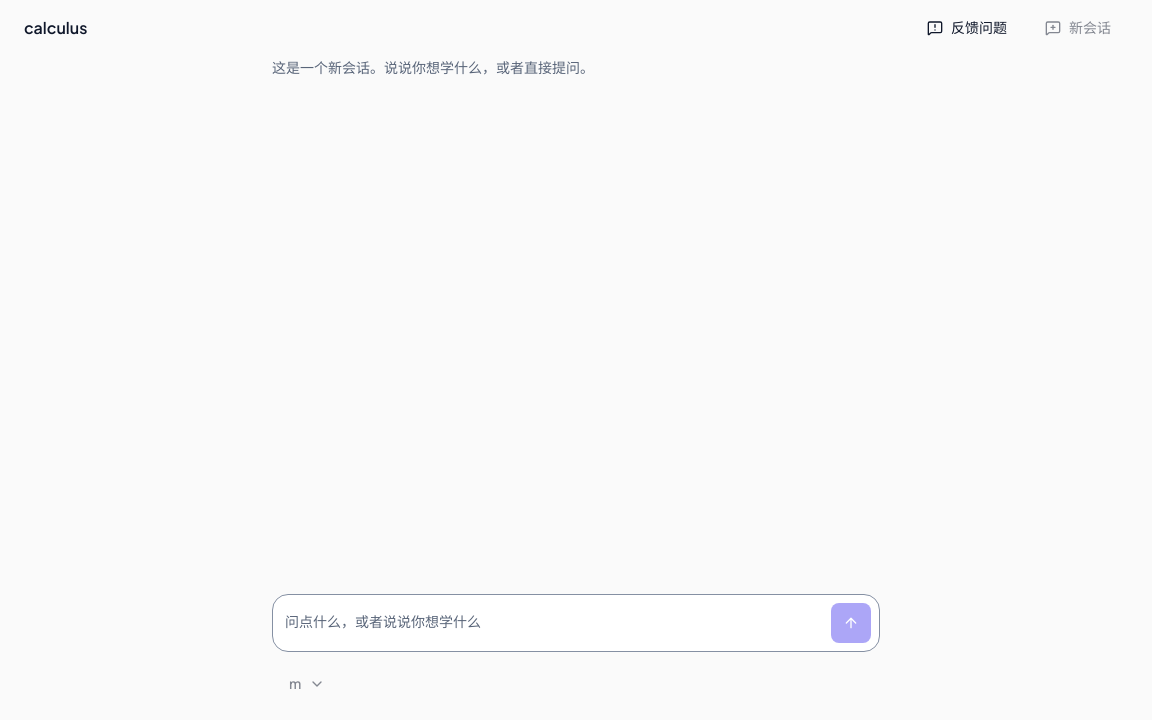
Test: 消息没发出去时显示原因，内容回到输入框
Expected: the button named "发送" is disabled, [831,603,871,643]
Type "你好" into the text box named "消息" at (548, 623), box [273,607,823,639]
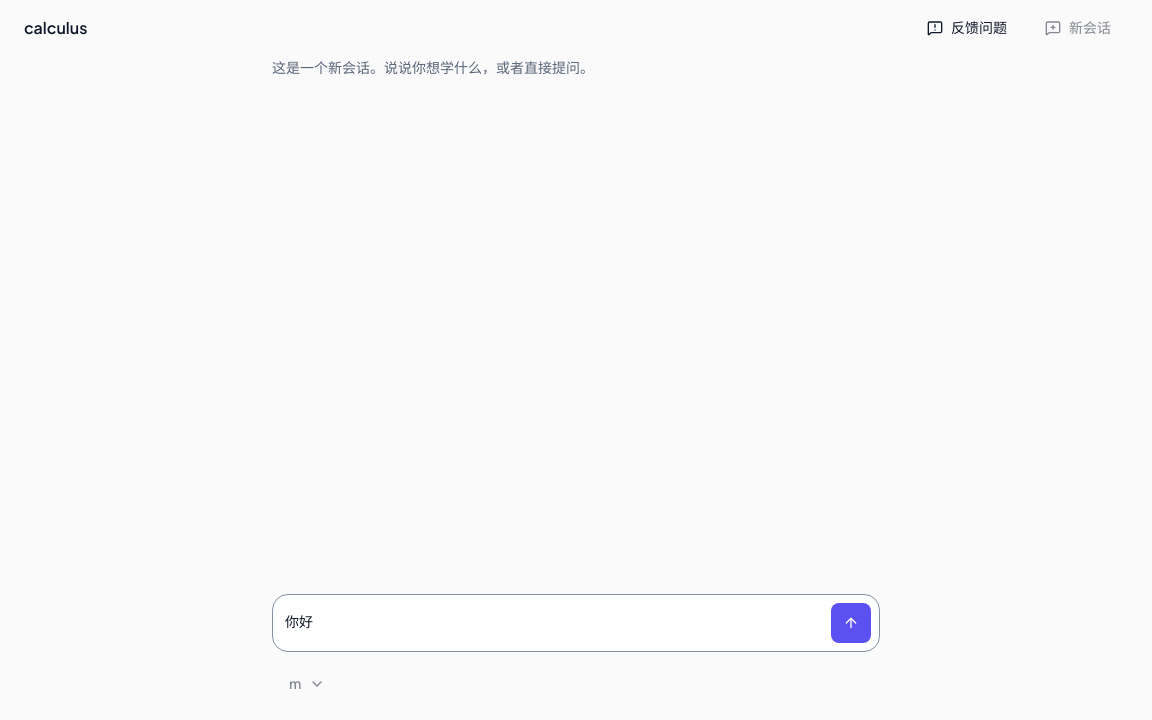
Click the button named "发送" at (851, 623), box [831,603,871,643]
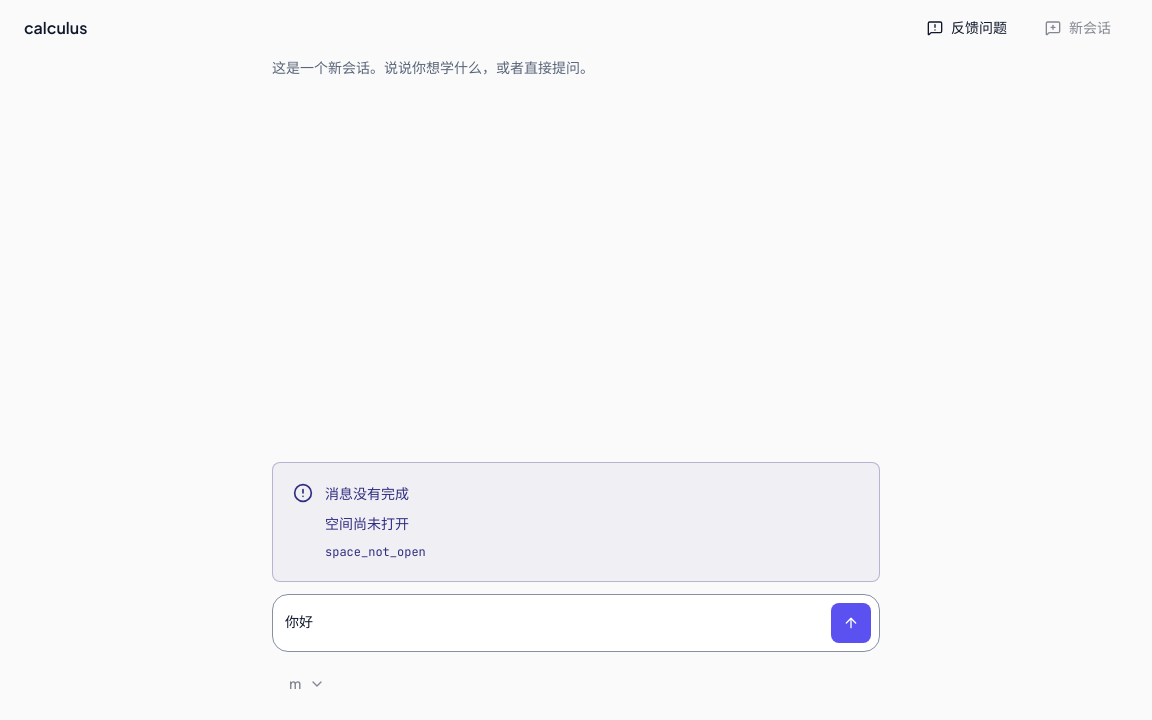
Now the message shows "空间尚未打开", box [325,514,409,533]
